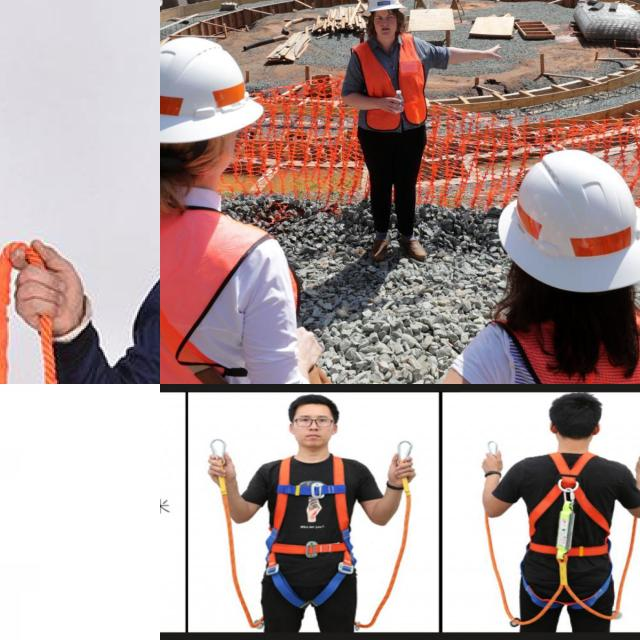Harness: (518, 447, 620, 619), (273, 454, 357, 607)
face_nomask: (368, 9, 401, 48)
hand_noglove: (376, 89, 410, 118), (484, 41, 500, 64)
head_helmet: (489, 146, 640, 285), (160, 29, 274, 144), (357, 0, 415, 15)
person: (160, 27, 319, 384), (457, 143, 640, 384), (319, 0, 480, 267)
shoes: (397, 228, 428, 264), (362, 232, 393, 261)
vest: (160, 194, 303, 384), (491, 309, 640, 384), (345, 42, 443, 129)
